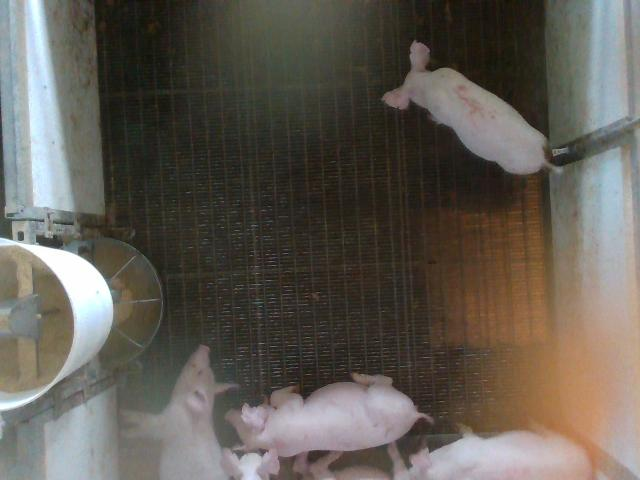pig-5: (382, 41, 550, 174)
